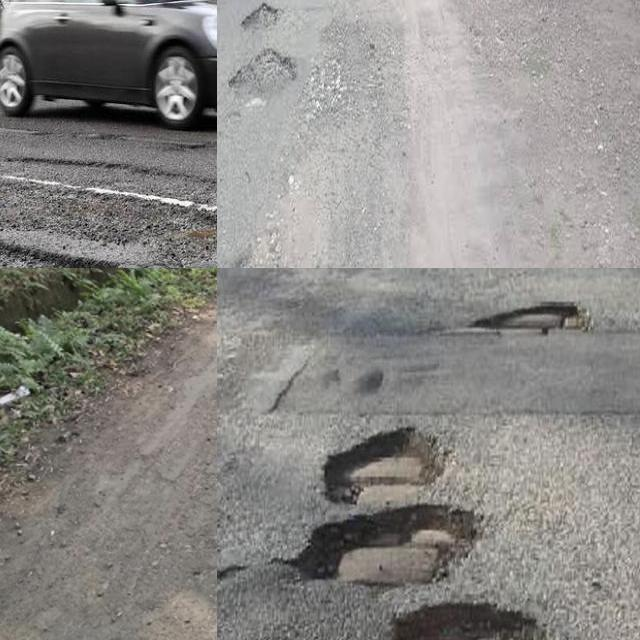Lubang: (288, 511, 477, 592), (316, 428, 458, 504), (383, 601, 549, 640), (473, 301, 586, 337), (230, 57, 290, 89), (238, 3, 282, 29)
